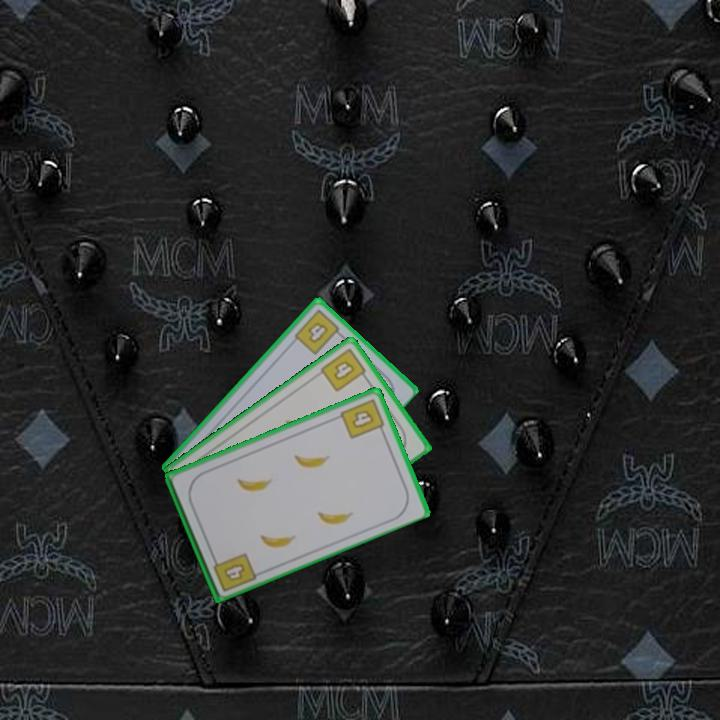4b: (290, 306, 346, 358), (317, 344, 371, 395), (337, 395, 388, 442), (209, 549, 259, 594)
